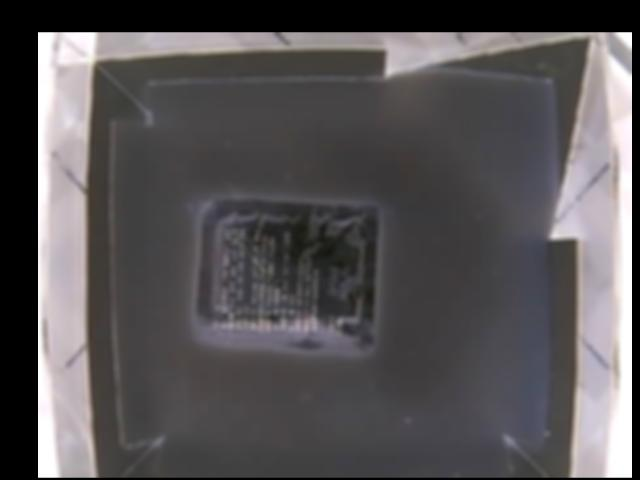Medicine: (195, 197, 374, 352)
